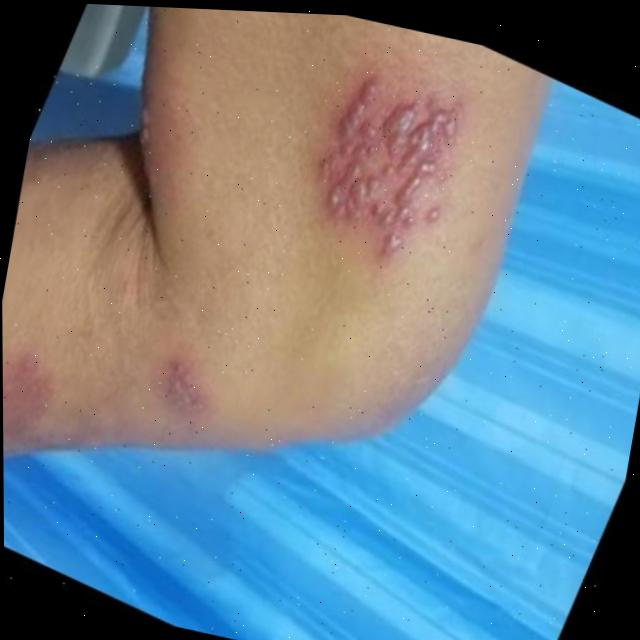Shingles: (314, 65, 478, 276), (2, 334, 90, 466), (142, 342, 214, 417)
